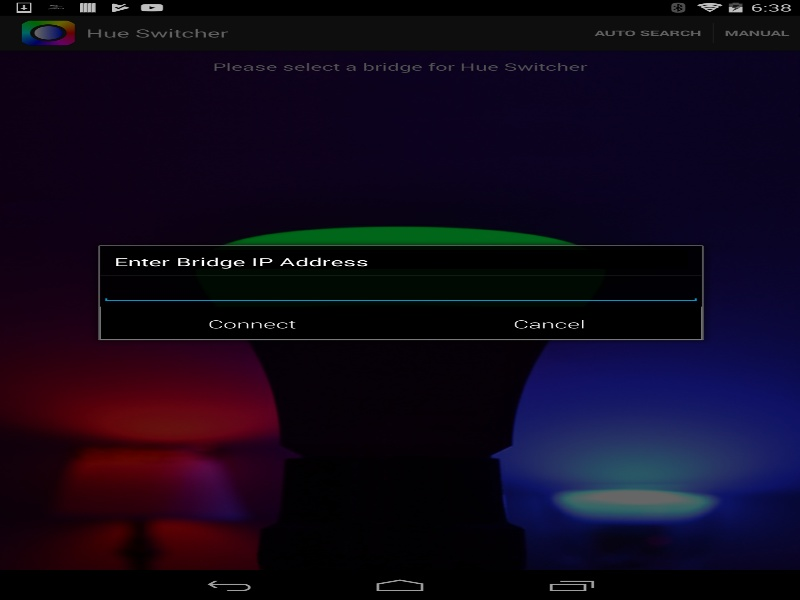Button: (400, 309, 698, 339), (103, 309, 400, 339)
Input: (100, 278, 701, 303)
